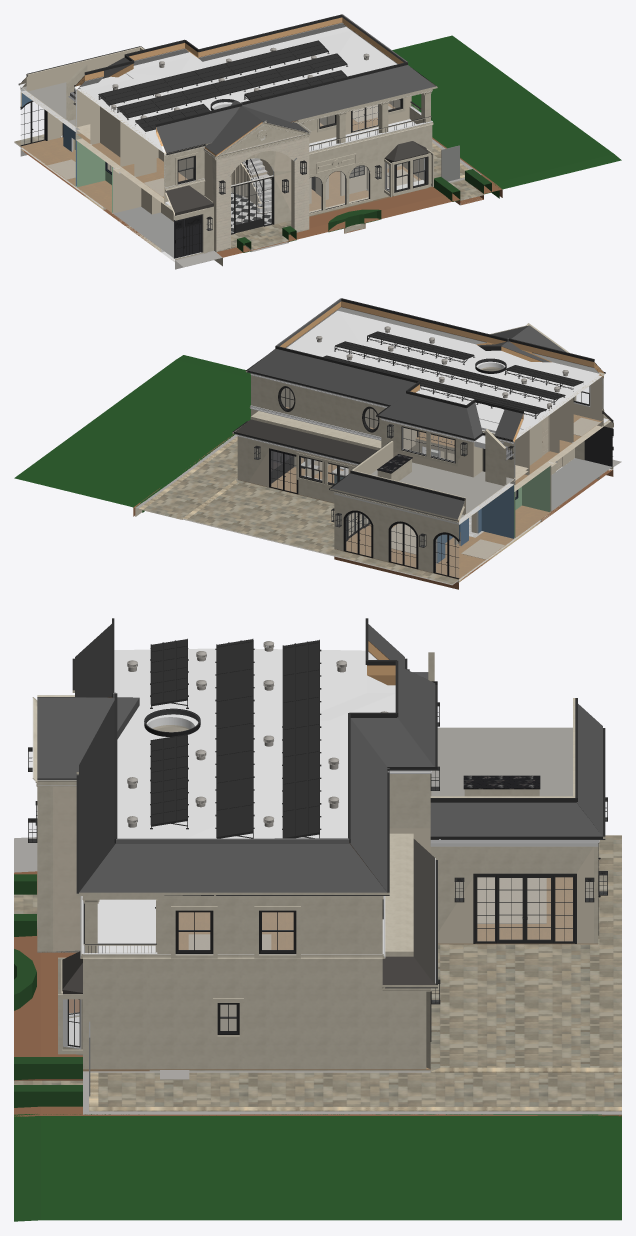
File: elevation-east-9ba8391f230c.glb
3 renders of one model, top to bottom at view 1: azimuth 30°, elevation 25°; view 2: azimuth 150°, elevation 25°; view 3: azimuth 270°, elevation 25°, orthographic. The views are drawn at different scales.
Visible parts, largest first — view 1: elevation-east-aee2d046b0172b1e, elevation-east-d56ee2a9d54b1fc2, elevation-east-e33d7b378dc851e2, elevation-east-0b9d5d1cd0b2c60f, elevation-east-7cf8e5cfa8b264af, elevation-east-f9d31319fa3bf46f, elevation-east-698abdfdc6fb970d, elevation-east-25c3ff3929e46046, elevation-east-b39baa29700ae605, elevation-east-3b0077416469e01b, elevation-east-2575515a05775d9e, elevation-east-e566fc302b71b574 (+56 smaller); view 2: elevation-east-aee2d046b0172b1e, elevation-east-d56ee2a9d54b1fc2, elevation-east-9a168d6ce9d31ade, elevation-east-c91f911e25c8cae7, elevation-east-3b0077416469e01b, elevation-east-969b861f9850351e, elevation-east-3763e2fb8578d282, elevation-east-2c1fd33d433632d0, elevation-east-5febae1537653d02, elevation-east-0b9d5d1cd0b2c60f, elevation-east-4ce8397b8f5ef0f7, elevation-east-ded88bd99590d377 (+40 smaller); view 3: elevation-east-aee2d046b0172b1e, elevation-east-9a168d6ce9d31ade, elevation-east-d56ee2a9d54b1fc2, elevation-east-2c1fd33d433632d0, elevation-east-a75a0c9c223328ee, elevation-east-af97eba351c411ae, elevation-east-ded88bd99590d377, elevation-east-e706aa16b4547c37, elevation-east-adb6f49a6d2cbec3, elevation-east-0b9d5d1cd0b2c60f, elevation-east-7cf8e5cfa8b264af, elevation-east-3d5fbc3a2a5f9c05 (+41 smaller).
Boxes of the visible parts, x1,y1,x2,y2 form: elevation-east-aee2d046b0172b1e: (21, 35, 621, 257); elevation-east-d56ee2a9d54b1fc2: (85, 30, 396, 146); elevation-east-e33d7b378dc851e2: (242, 65, 435, 121); elevation-east-0b9d5d1cd0b2c60f: (116, 53, 347, 119); elevation-east-7cf8e5cfa8b264af: (98, 40, 329, 106); elevation-east-f9d31319fa3bf46f: (224, 134, 301, 249); elevation-east-698abdfdc6fb970d: (231, 176, 274, 234); elevation-east-25c3ff3929e46046: (156, 106, 239, 153); elevation-east-b39baa29700ae605: (309, 121, 432, 169); elevation-east-3b0077416469e01b: (21, 137, 407, 206); elevation-east-2575515a05775d9e: (75, 103, 409, 204); elevation-east-e566fc302b71b574: (80, 27, 350, 145); elevation-east-aee2d046b0172b1e: (14, 355, 613, 589); elevation-east-d56ee2a9d54b1fc2: (286, 310, 599, 429); elevation-east-9a168d6ce9d31ade: (182, 479, 458, 585); elevation-east-c91f911e25c8cae7: (247, 348, 415, 405); elevation-east-3b0077416469e01b: (239, 457, 541, 579); elevation-east-969b861f9850351e: (334, 494, 460, 572); elevation-east-3763e2fb8578d282: (251, 375, 385, 436); elevation-east-2c1fd33d433632d0: (138, 436, 237, 519); elevation-east-5febae1537653d02: (331, 473, 464, 519); elevation-east-0b9d5d1cd0b2c60f: (334, 341, 565, 404); elevation-east-4ce8397b8f5ef0f7: (378, 393, 474, 438); elevation-east-ded88bd99590d377: (371, 462, 513, 517); elevation-east-aee2d046b0172b1e: (14, 871, 621, 1221); elevation-east-9a168d6ce9d31ade: (430, 835, 621, 1072); elevation-east-d56ee2a9d54b1fc2: (114, 648, 395, 838); elevation-east-2c1fd33d433632d0: (89, 1072, 621, 1111); elevation-east-a75a0c9c223328ee: (79, 843, 386, 892); elevation-east-af97eba351c411ae: (285, 974, 426, 1069); elevation-east-ded88bd99590d377: (431, 727, 572, 796); elevation-east-e706aa16b4547c37: (430, 846, 593, 943); elevation-east-adb6f49a6d2cbec3: (157, 899, 382, 953); elevation-east-0b9d5d1cd0b2c60f: (215, 639, 254, 838); elevation-east-7cf8e5cfa8b264af: (282, 639, 321, 838); elevation-east-3d5fbc3a2a5f9c05: (473, 873, 576, 943).
Size of the model in its own units: 29.52 by 8.45 by 19.78.
78 materials, 17 textured.
